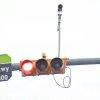traffic lights: (19, 58, 67, 76)
